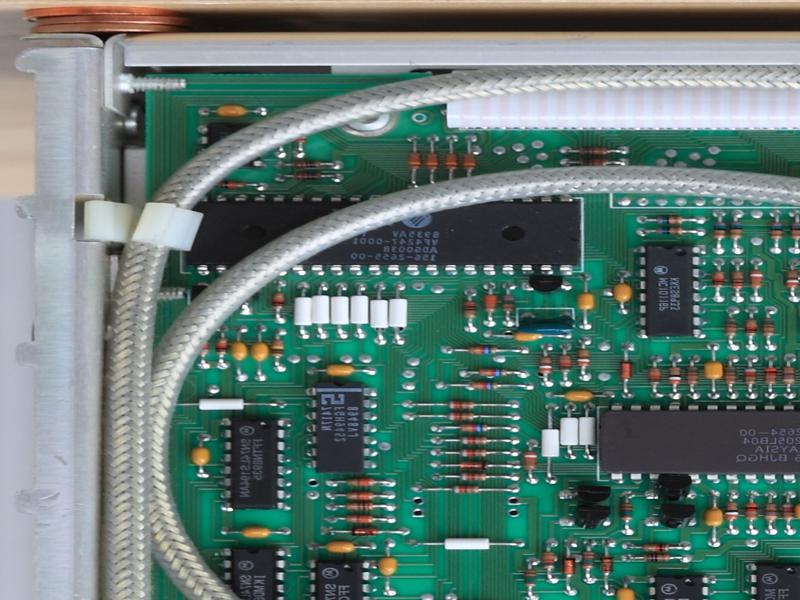Diode: (345, 525, 383, 539), (560, 553, 578, 579), (619, 359, 634, 384), (456, 460, 490, 470)
Resistor: (465, 343, 501, 358), (521, 448, 540, 476), (270, 288, 288, 316), (574, 346, 593, 372), (342, 488, 377, 502), (423, 147, 441, 174), (445, 397, 479, 411), (761, 500, 779, 526), (727, 218, 744, 245), (341, 501, 379, 513), (341, 513, 379, 525), (639, 540, 674, 553), (710, 219, 728, 244), (443, 146, 459, 174), (213, 178, 250, 190), (448, 483, 485, 495), (476, 366, 510, 379), (537, 353, 554, 379), (576, 145, 610, 158), (598, 552, 615, 578), (556, 352, 575, 375), (269, 337, 287, 361), (462, 297, 478, 324), (482, 291, 499, 316), (762, 364, 779, 389), (342, 476, 377, 488), (445, 410, 480, 422), (667, 364, 683, 390), (779, 501, 795, 527), (743, 315, 759, 341), (540, 549, 557, 573), (407, 147, 422, 174), (723, 364, 738, 391), (769, 218, 784, 245), (619, 500, 635, 525), (646, 363, 662, 388), (685, 365, 701, 390), (459, 423, 492, 435), (641, 553, 674, 565), (722, 317, 739, 340), (747, 270, 764, 293), (291, 158, 323, 170), (458, 447, 490, 459), (724, 500, 740, 524), (780, 364, 796, 388), (729, 269, 745, 293), (784, 267, 800, 291), (213, 334, 228, 359), (457, 435, 491, 446), (500, 293, 516, 316), (290, 171, 326, 181), (461, 150, 477, 172), (710, 269, 726, 291), (761, 316, 775, 341), (522, 566, 537, 589), (744, 501, 759, 524), (743, 366, 758, 389), (654, 214, 685, 225), (457, 472, 491, 482), (466, 380, 500, 390), (581, 550, 596, 572), (654, 227, 685, 237), (576, 159, 610, 168), (789, 216, 800, 241)
